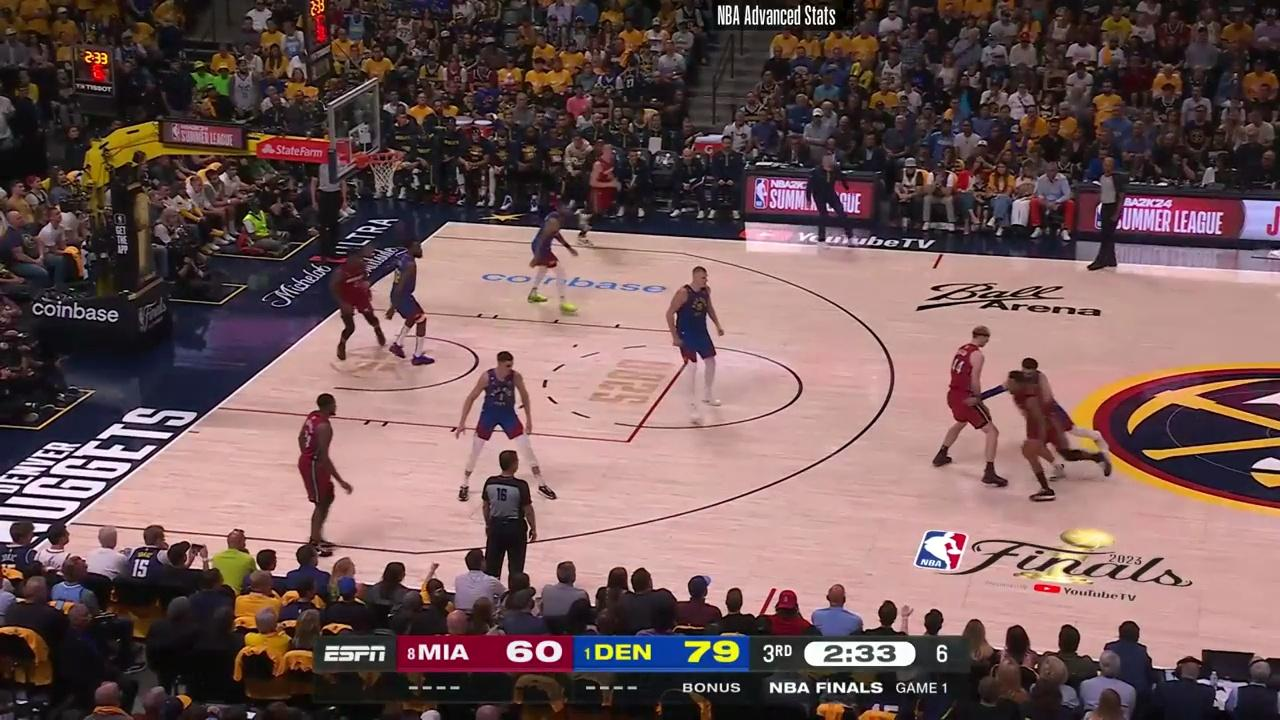Backboard: (329, 76, 378, 184)
Ball: (1020, 436, 1043, 462)
Basket: (368, 153, 399, 192)
Person: (460, 346, 553, 500), (999, 355, 1097, 495), (936, 319, 1009, 482), (287, 388, 356, 560), (664, 264, 734, 420), (364, 239, 434, 372), (328, 241, 387, 363), (521, 201, 583, 315), (577, 143, 619, 242)
Referee: (473, 451, 546, 590), (1082, 154, 1130, 274)
Shot Clock: (75, 44, 122, 109), (306, 6, 335, 82)
